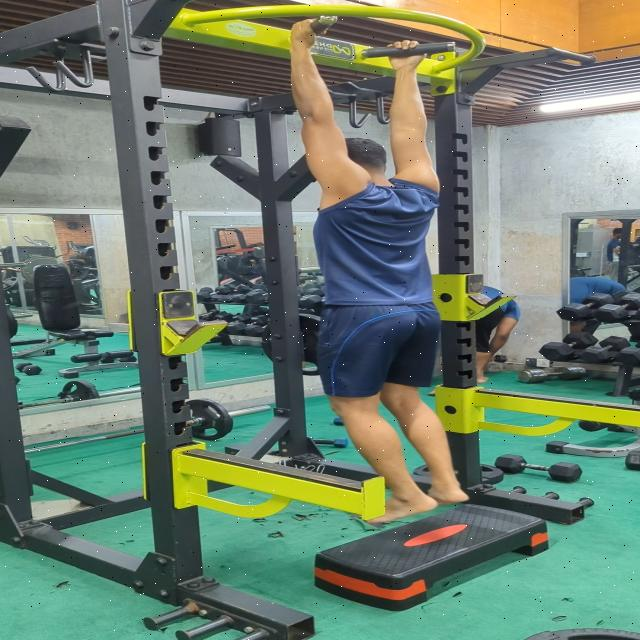Normal_PullUps: (282, 16, 478, 525)
